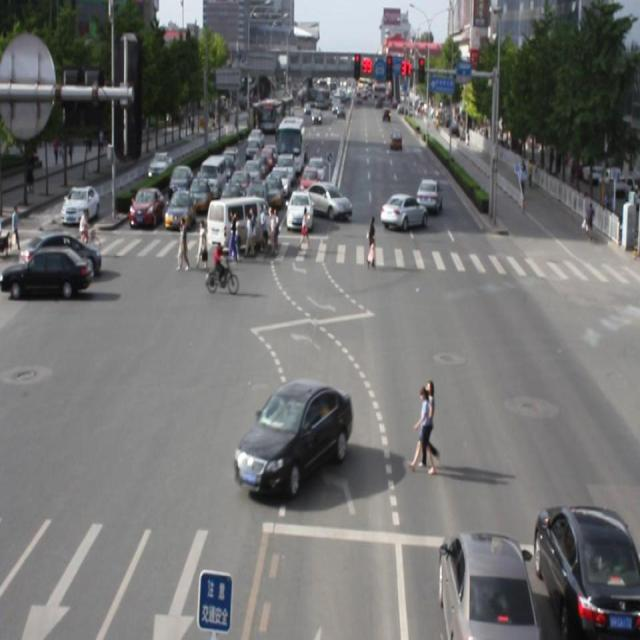car: (534, 498, 640, 640), (232, 378, 353, 498), (436, 527, 537, 640)
truck: (207, 193, 275, 250)
